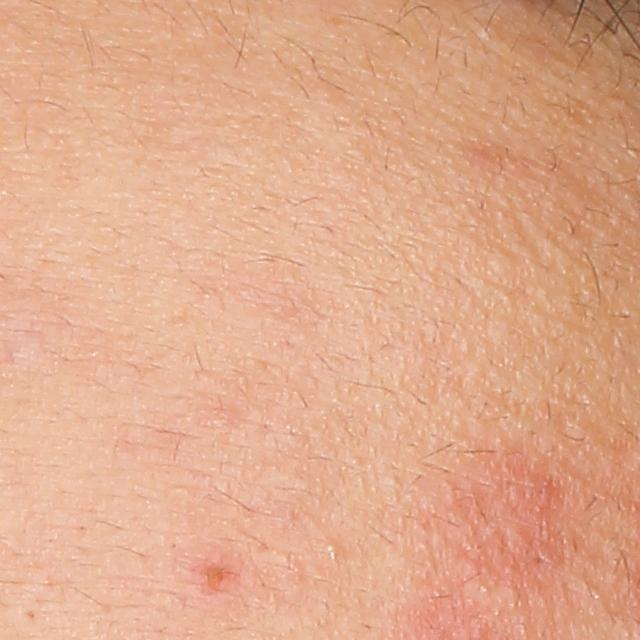comedo: (324, 539, 340, 557)
papule: (195, 556, 233, 592)
